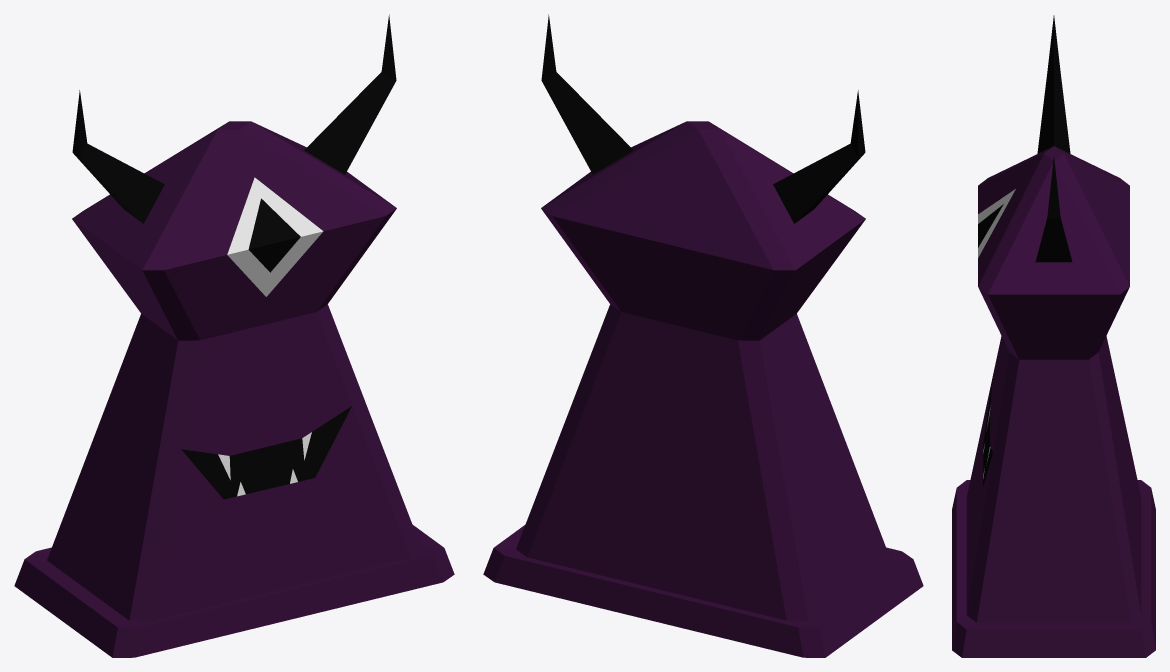
File: FichaRevelantEnemigo.fbx
3 views of the same model, side by side, from view 1: azimuth 30°, elevation 25°; view 2: azimuth 150°, elevation 25°; view 3: azimuth 270°, elevation 25° (orthographic). The views are drawn at different scales.
Visible parts, largest first — view 1: Enemigo; view 2: Enemigo; view 3: Enemigo.
Boxes of the visible parts, left/top/right/bottom form: Enemigo: left=14, top=14, right=454, bottom=657; Enemigo: left=483, top=14, right=923, bottom=657; Enemigo: left=952, top=15, right=1155, bottom=657.
Bounding box in the file's own units: 26.45 × 39.04 × 14.57.
